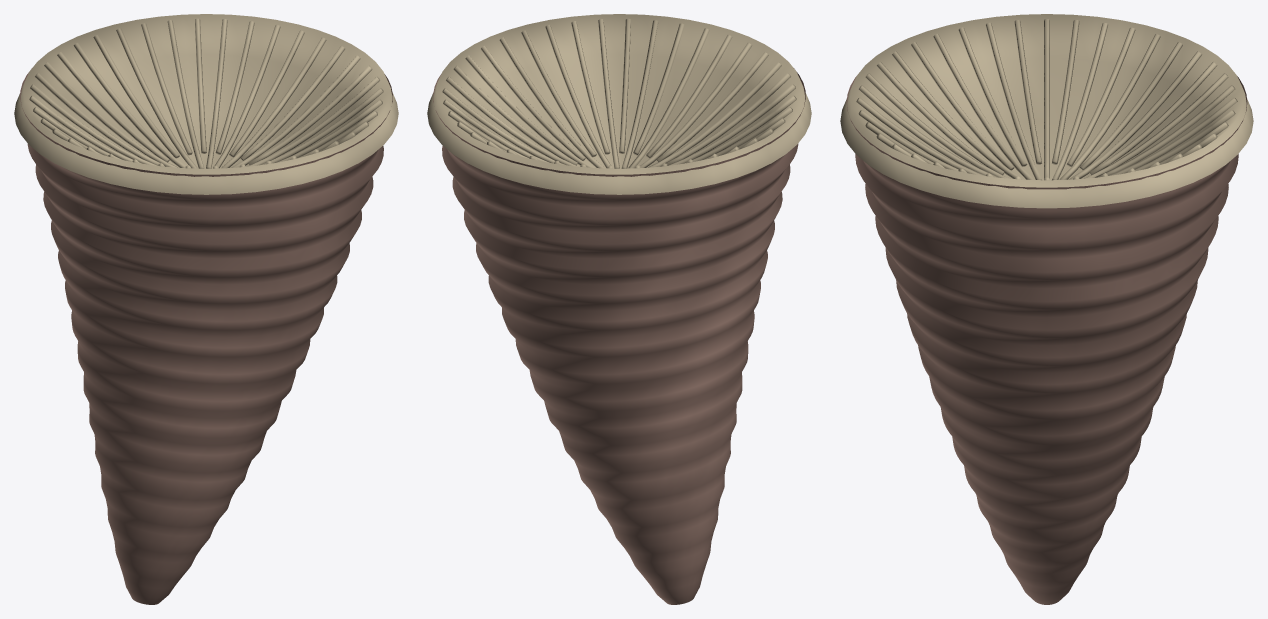
File: solitary-rugose-coral.glb
3 renders of one model, left to right at view 1: azimuth 30°, elevation 25°; view 2: azimuth 150°, elevation 25°; view 3: azimuth 270°, elevation 25°, orthographic. The views are drawn at different scales.
Visible parts, largest first — view 1: solitary-rugose-coral; view 2: solitary-rugose-coral; view 3: solitary-rugose-coral.
Part boxes in pixels (bbox=[...]): solitary-rugose-coral: bbox=[14, 14, 398, 604]; solitary-rugose-coral: bbox=[427, 14, 811, 604]; solitary-rugose-coral: bbox=[840, 14, 1253, 604].
Bounding box in the file's own units: 0.0713 × 0.1015 × 0.0713.
